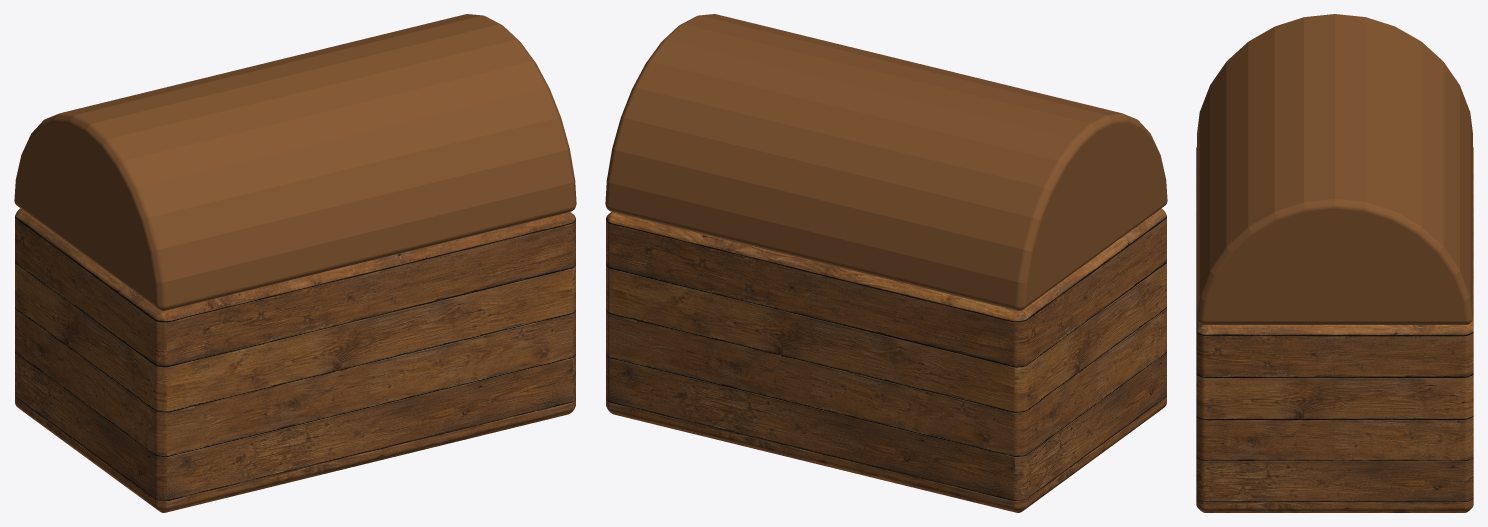
File: plain-chest-v01.glb
3 views of the same model, side by side, from view 1: azimuth 30°, elevation 25°; view 2: azimuth 150°, elevation 25°; view 3: azimuth 270°, elevation 25° (orthographic). The views are drawn at different scales.
Parts seen in each view (by area): view 1: plain-chest; view 2: plain-chest; view 3: plain-chest.
Part boxes in pixels (left/top/right/bottom): plain-chest: left=14, top=14, right=576, bottom=512; plain-chest: left=605, top=14, right=1167, bottom=512; plain-chest: left=1196, top=14, right=1473, bottom=512.
Size of the model in its own units: 1.3 by 1 by 0.8.
1 material, 1 textured.
